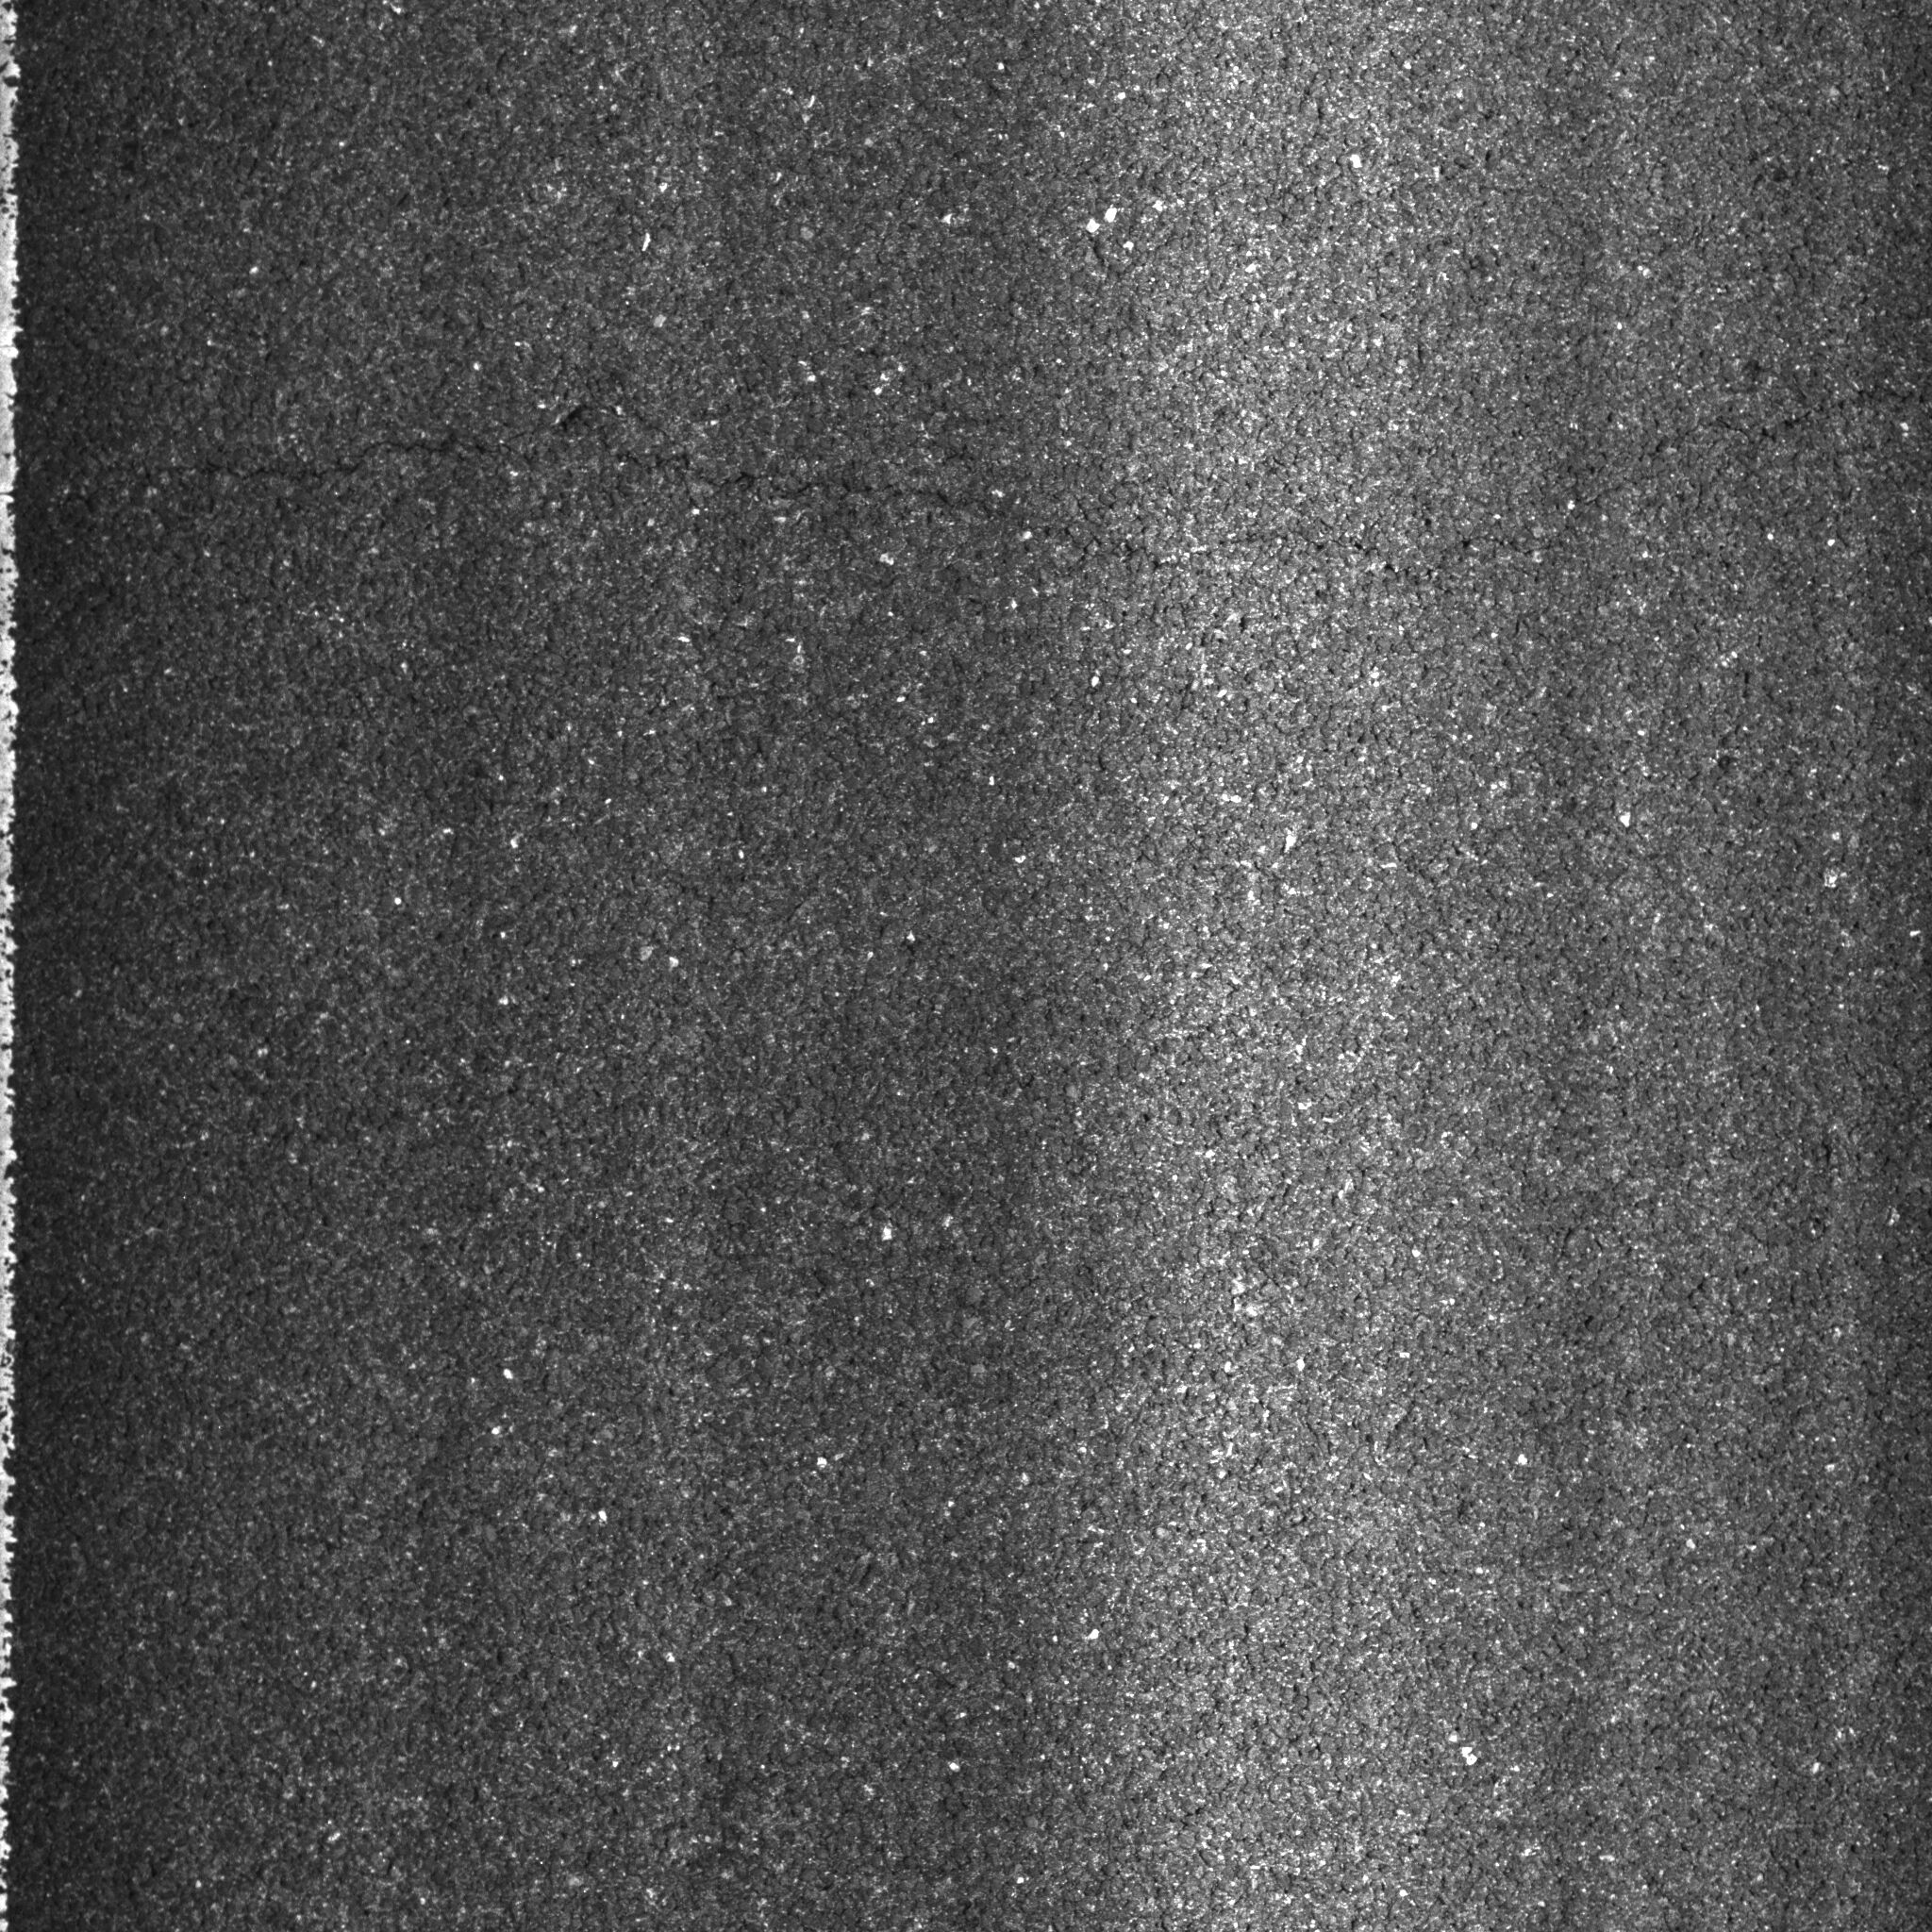transverse: (81, 352, 1891, 635)
